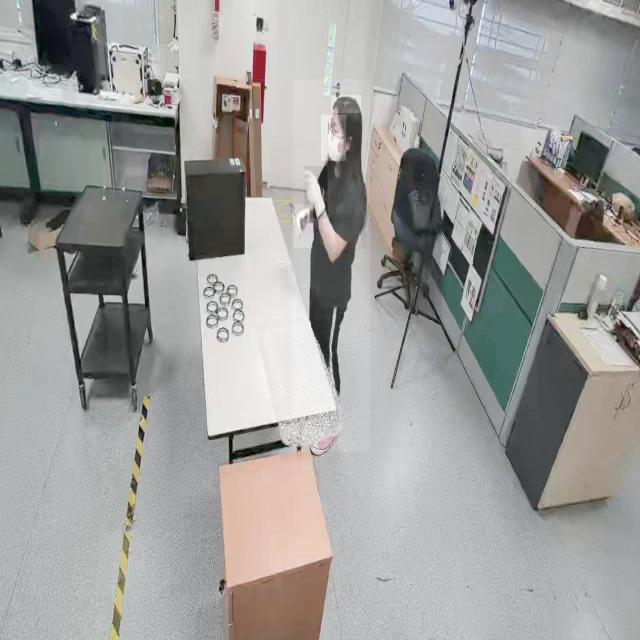face_mask: (321, 115, 346, 161)
glasses: (326, 120, 338, 144)
hand_glove: (304, 166, 328, 219), (293, 204, 313, 248)
head_nohelmet: (332, 95, 362, 114)
person: (292, 79, 370, 453)
